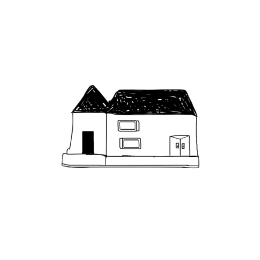door: (165, 131, 194, 162), (79, 130, 100, 158)
open_window: (115, 115, 146, 135), (118, 136, 143, 151)
shaded_roof: (108, 84, 215, 118), (65, 79, 112, 115)
small_house: (1, 2, 260, 259)
wall: (104, 112, 203, 162)
